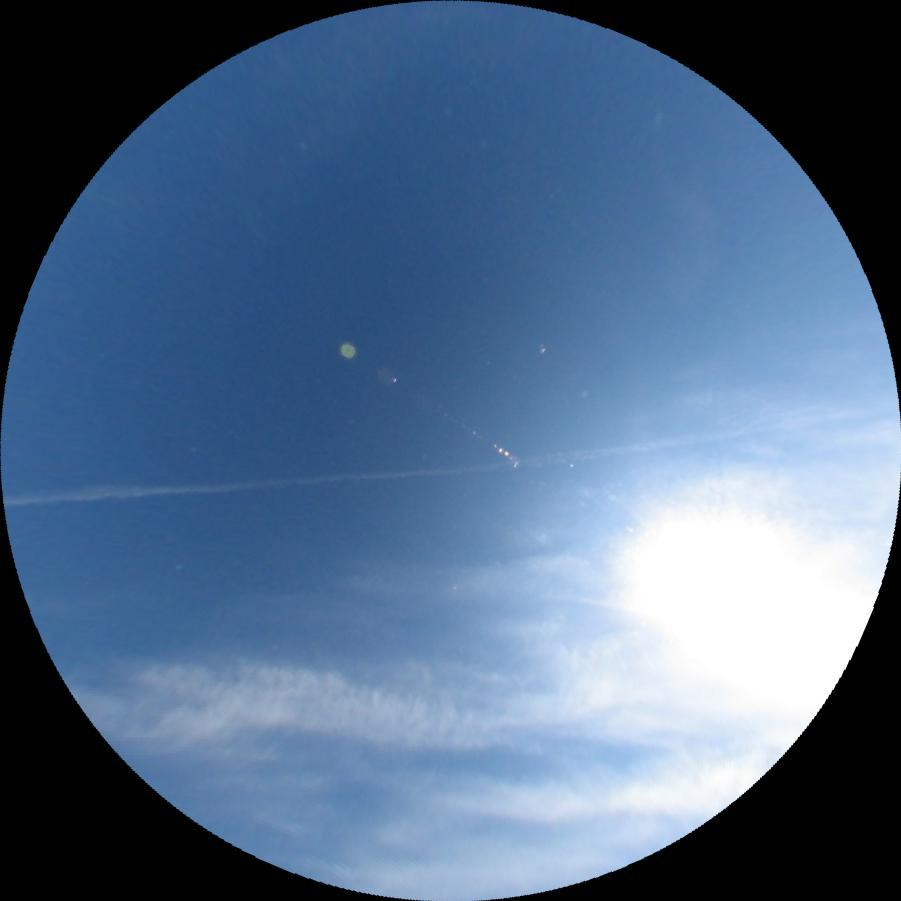contrail old: (2, 401, 900, 520)
sun: (619, 495, 878, 721)
